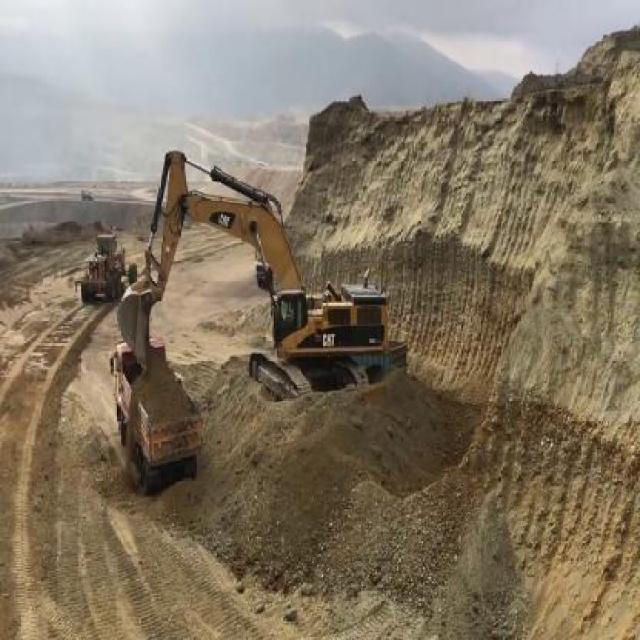dump_truck: (108, 341, 204, 496), (78, 187, 94, 201)
excavator: (116, 142, 409, 403)
